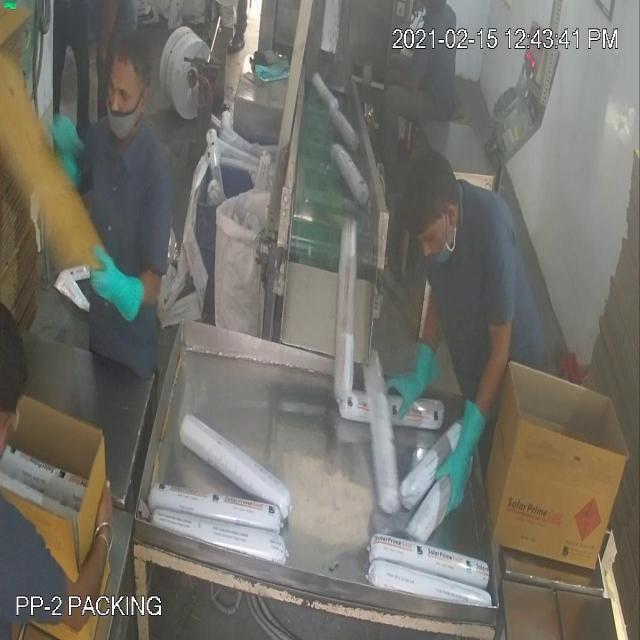Gloves: (38, 38, 460, 546)
